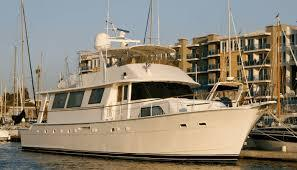Ship: (22, 65, 260, 158)
